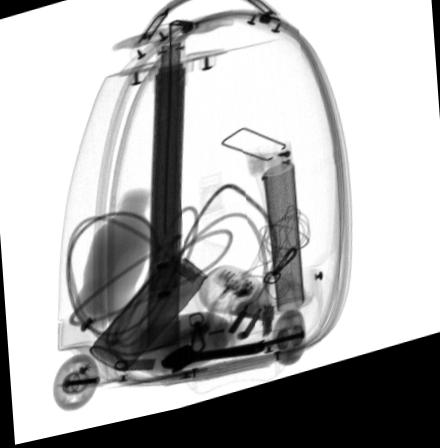Wrench: (160, 352, 265, 382)
